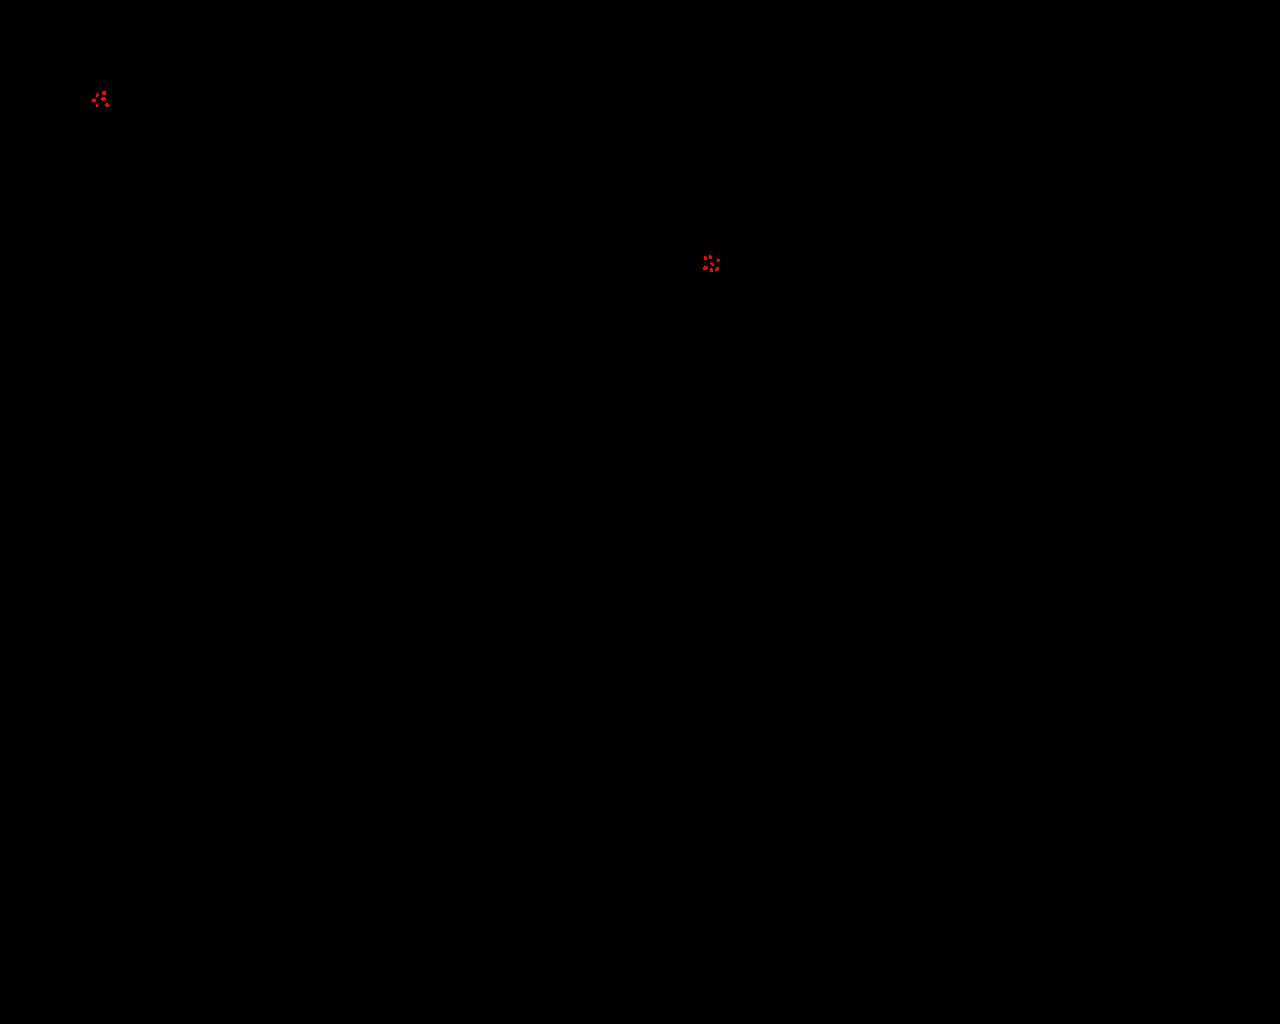Target: (101, 97, 106, 101), (709, 262, 714, 266), (104, 103, 110, 107), (703, 266, 708, 270), (102, 91, 106, 95), (96, 93, 99, 97), (92, 99, 96, 102), (704, 256, 707, 260), (715, 267, 719, 271), (709, 267, 713, 272), (717, 259, 720, 262), (709, 255, 712, 259), (96, 104, 99, 107)
